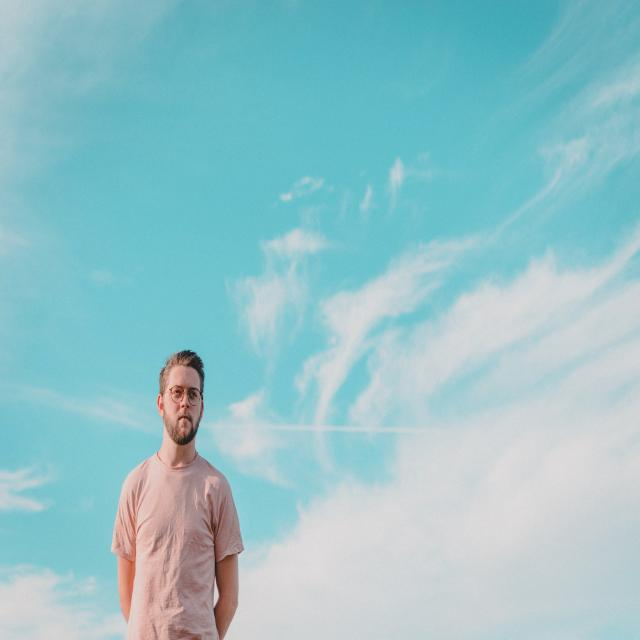adult: (117, 350, 241, 640)
